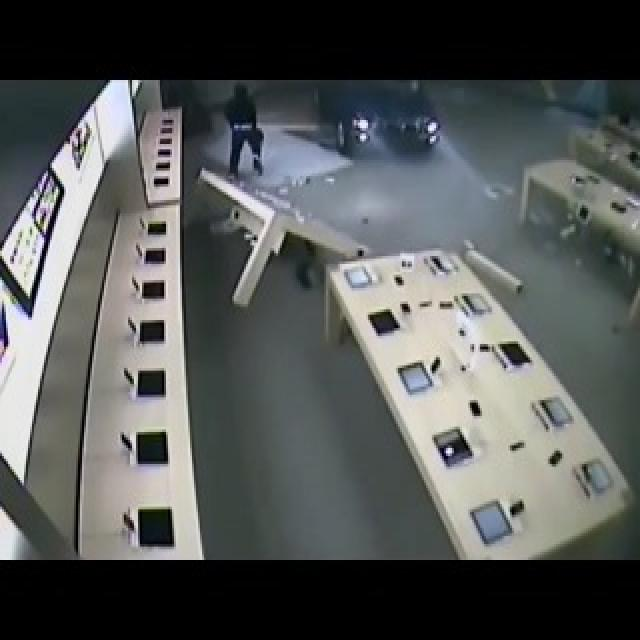thief: (217, 82, 273, 184)
